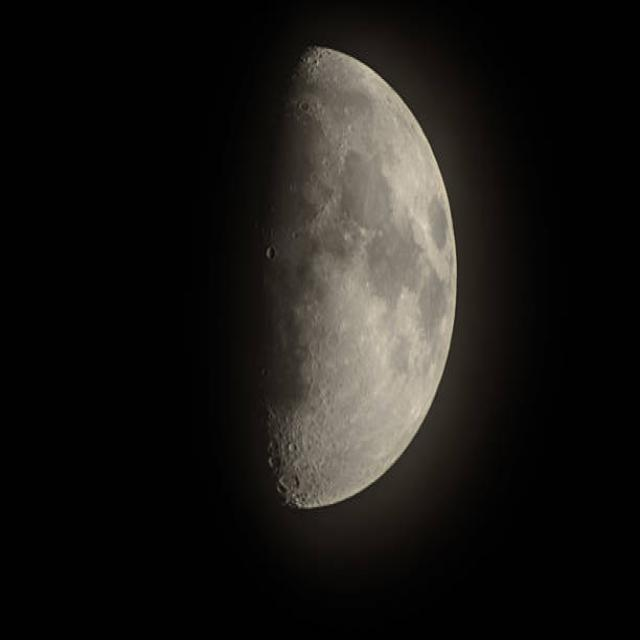moon: (109, 19, 461, 517)
